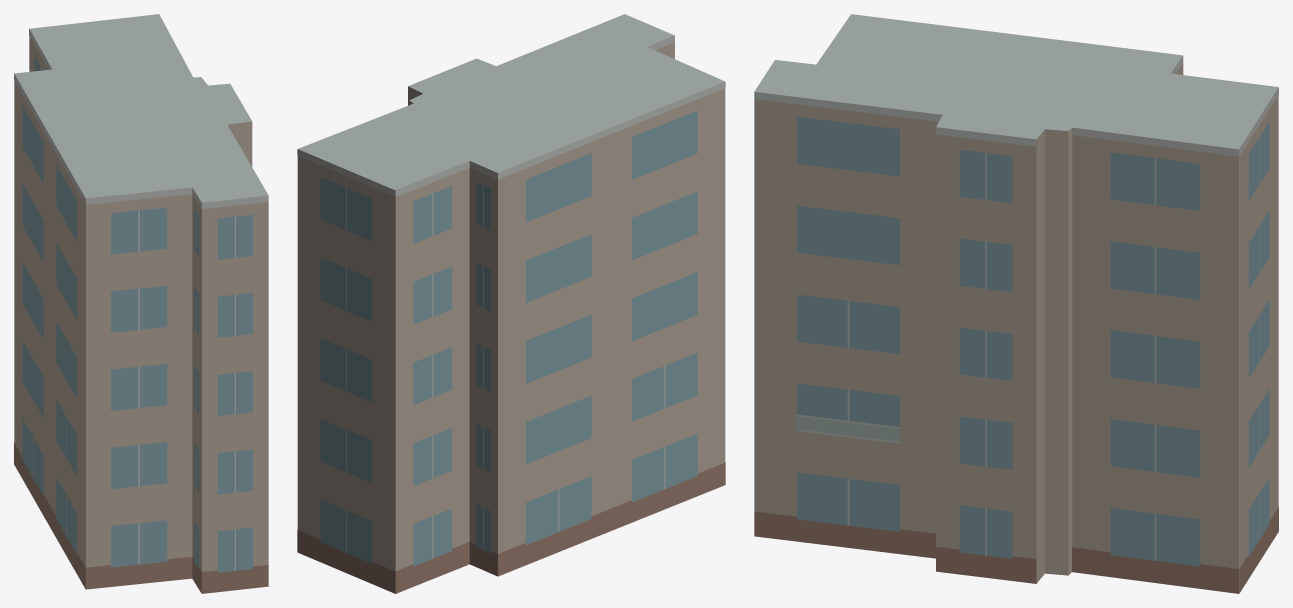
The model's file is survey-upis-33045889.glb.
3 views of the same model, side by side, from view 1: azimuth 30°, elevation 25°; view 2: azimuth 150°, elevation 25°; view 3: azimuth 270°, elevation 25° (orthographic). The views are drawn at different scales.
Visible parts, largest first — view 1: survey-upis-33045889.tmp; view 2: survey-upis-33045889.tmp; view 3: survey-upis-33045889.tmp.
Boxes of the visible parts, x1=… form: survey-upis-33045889.tmp: x1=14, y1=14, x2=268, y2=593; survey-upis-33045889.tmp: x1=297, y1=14, x2=725, y2=593; survey-upis-33045889.tmp: x1=754, y1=14, x2=1278, y2=593.
Size of the model in its own units: 9.55 by 14.6 by 15.63.
